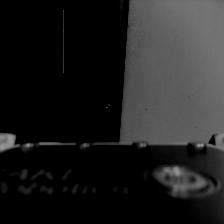Door Handle: (58, 14, 113, 69)
Lock: (82, 88, 116, 120)
